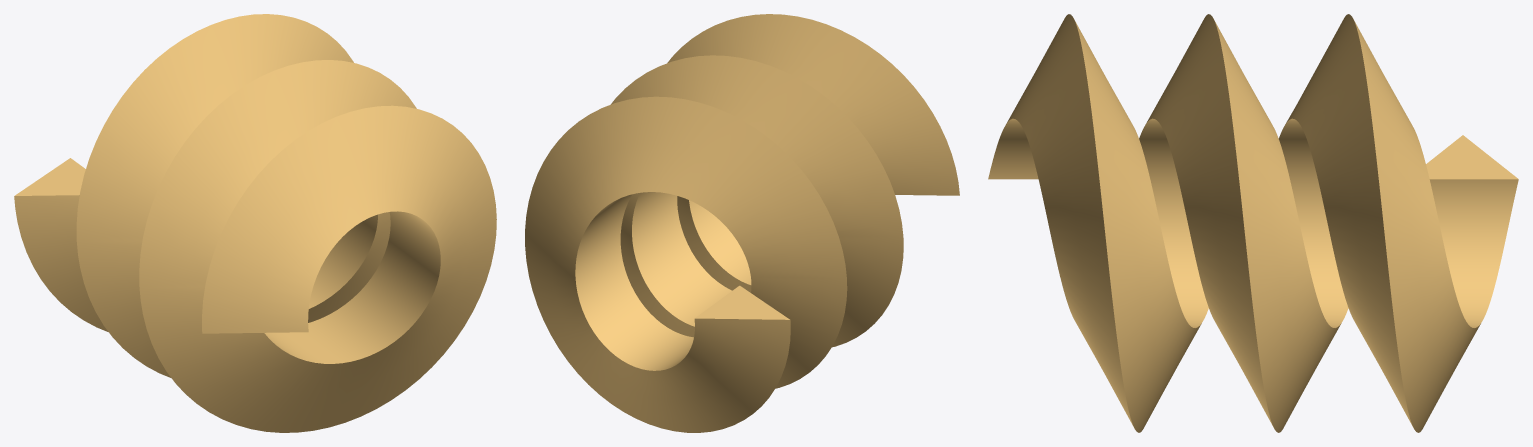
File: helical-ridge.glb
The picture shows the model from 3 angles, left to right: view 1: azimuth 30°, elevation 25°; view 2: azimuth 150°, elevation 25°; view 3: azimuth 270°, elevation 25°; orthographic projection. The views are drawn at different scales.
Parts seen in each view (by area): view 1: SOLID; view 2: SOLID; view 3: SOLID.
Boxes of the visible parts, box(x1,y1,x2,y2) form: SOLID: box(14, 14, 496, 432); SOLID: box(525, 14, 959, 432); SOLID: box(988, 14, 1518, 432).
Bounding box in the file's own units: 12 × 12 × 15.2.
